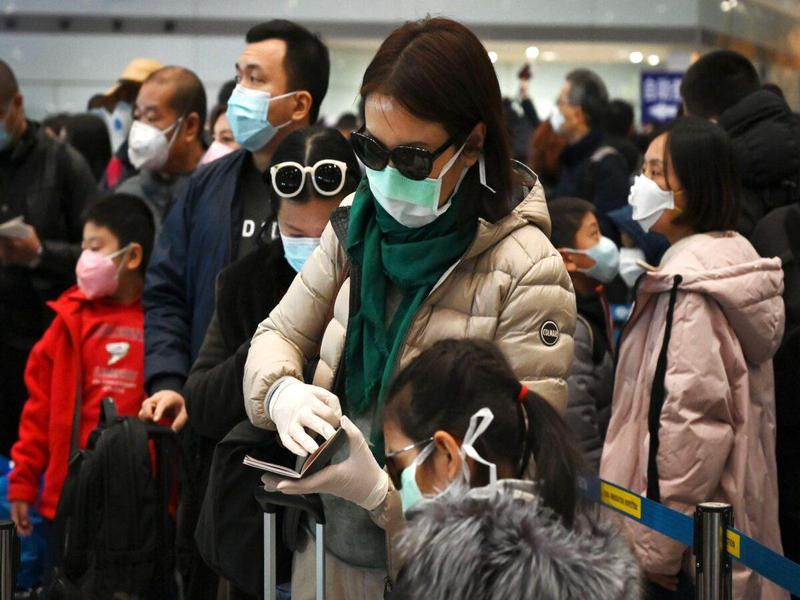with_mask: (351, 17, 501, 232), (376, 338, 531, 511), (622, 113, 741, 242), (228, 21, 331, 153), (74, 196, 158, 313), (126, 65, 206, 174), (556, 192, 620, 286), (266, 188, 333, 274)
